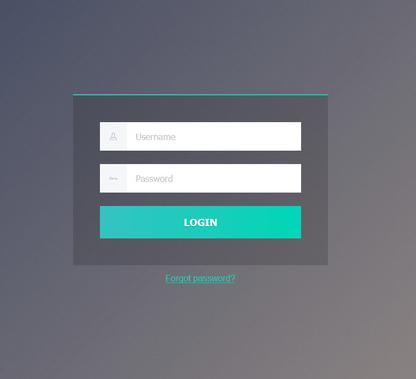button: (97, 204, 302, 241)
field: (99, 120, 305, 152), (97, 162, 302, 194)
